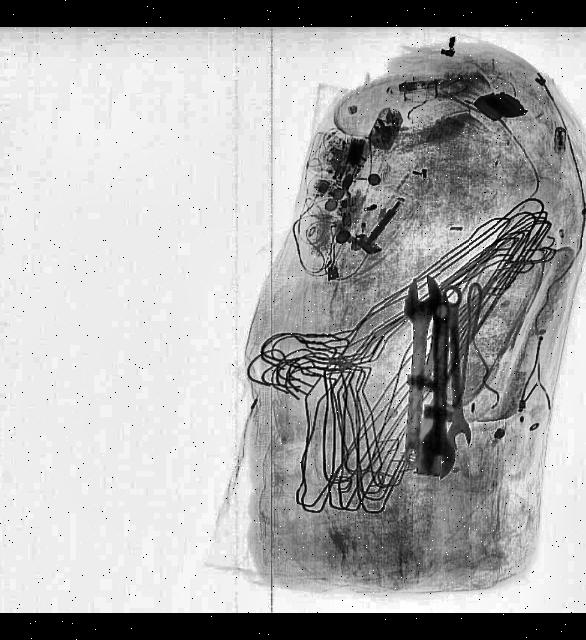Wrench: (390, 274, 442, 466), (414, 306, 460, 480), (436, 284, 470, 450)
